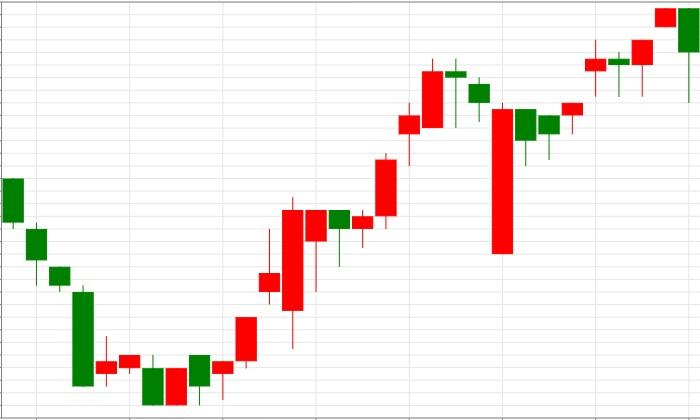bearish_engulfing_fall: (492, 8, 700, 254)
hanging_man_fall: (142, 196, 327, 406)
